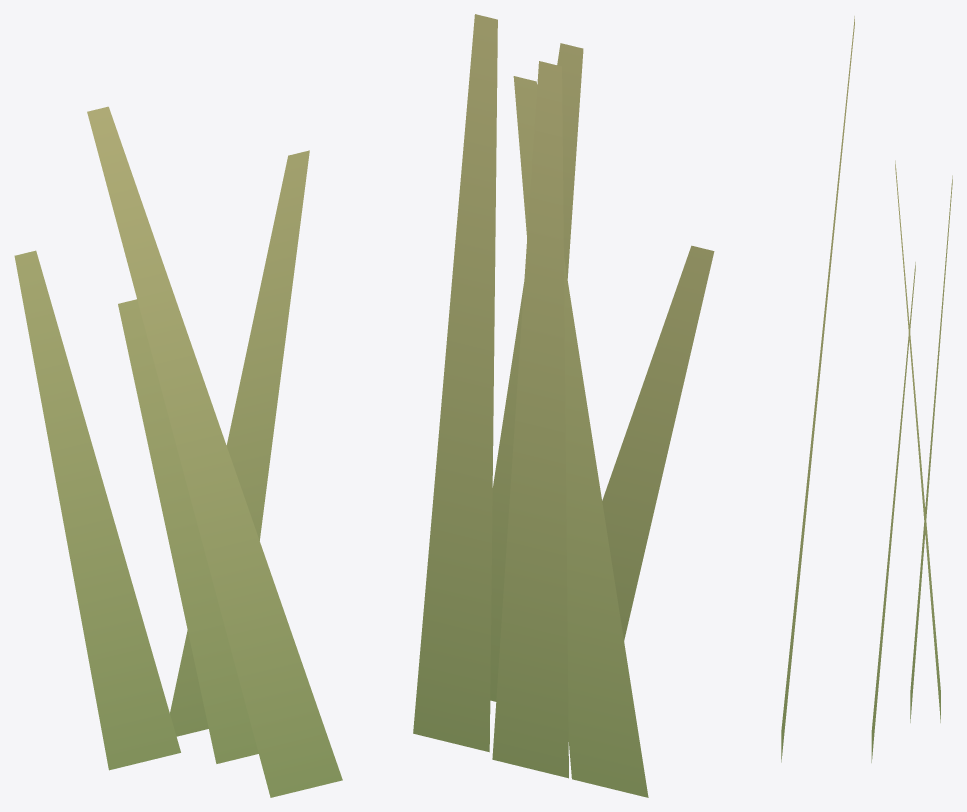
Rendered from dunegrass_0.glb.
The picture shows the model from 3 angles, left to right: view 1: azimuth 30°, elevation 25°; view 2: azimuth 150°, elevation 25°; view 3: azimuth 270°, elevation 25°; orthographic projection. The views are drawn at different scales.
Visible parts, largest first — view 1: Dunegrass; view 2: Dunegrass; view 3: Dunegrass.
Part boxes in pixels (x1,y1,x2,y2): Dunegrass: [14, 106, 342, 797]; Dunegrass: [413, 14, 714, 797]; Dunegrass: [781, 16, 952, 762].
Size of the model in its own units: 0.4243 by 0.9287 by 0.2183.
